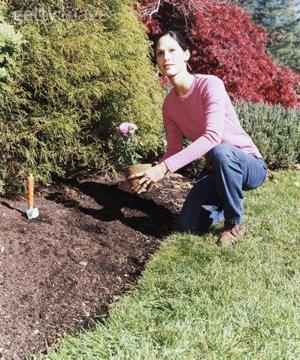person: (127, 22, 269, 249)
